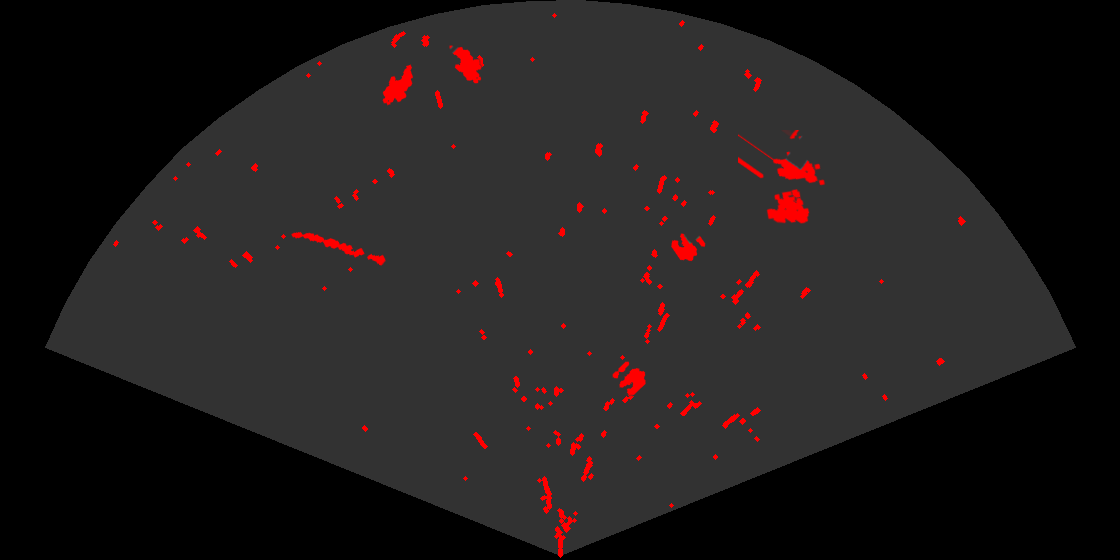AUV: (381, 63, 415, 107), (448, 44, 483, 85)
ball: (611, 360, 647, 397), (670, 232, 707, 263)
cage: (738, 130, 827, 225)
chain: (290, 230, 387, 267)
